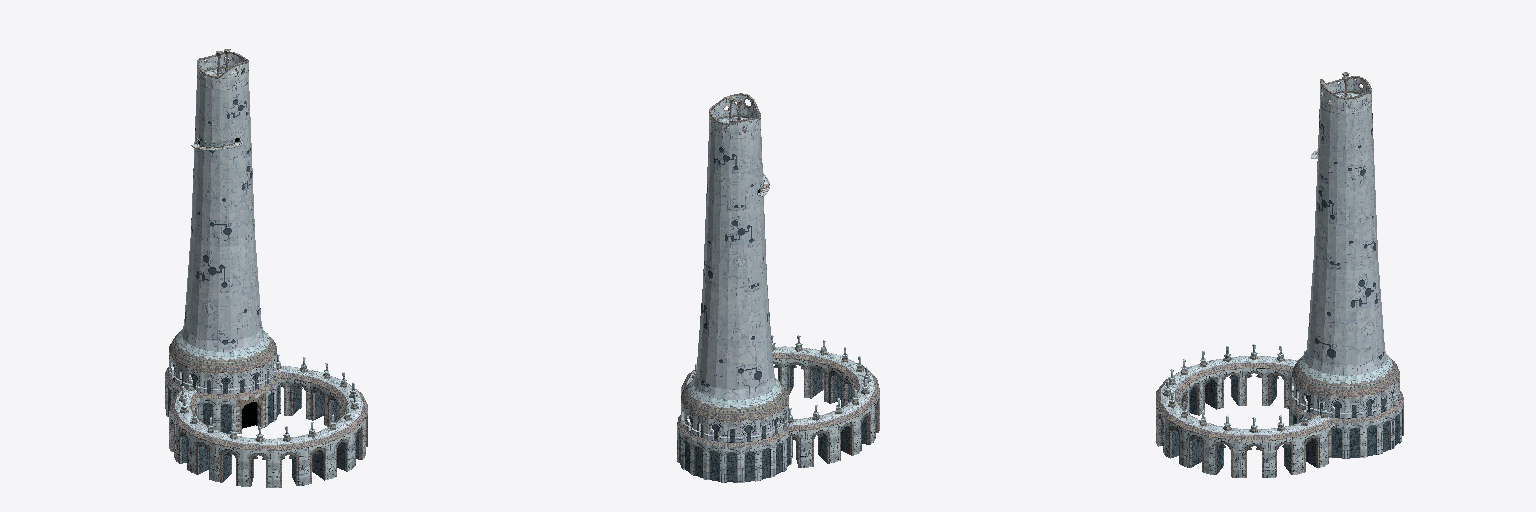
3 renders of one model, left to right at view 1: azimuth 30°, elevation 25°; view 2: azimuth 150°, elevation 25°; view 3: azimuth 270°, elevation 25°, orthographic.
Parts seen in each view (by area): view 1: x_tower; view 2: x_tower; view 3: x_tower.
Part boxes in pixels (left/top/right/bottom): x_tower: left=165, top=49, right=367, bottom=487; x_tower: left=677, top=93, right=879, bottom=482; x_tower: left=1156, top=72, right=1403, bottom=477.
Bounding box in the file's own units: 1.62 × 3.28 × 2.05.
8 materials, 8 textured.